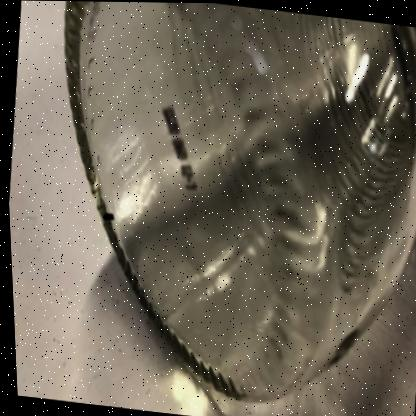Glass: (64, 1, 416, 401)
